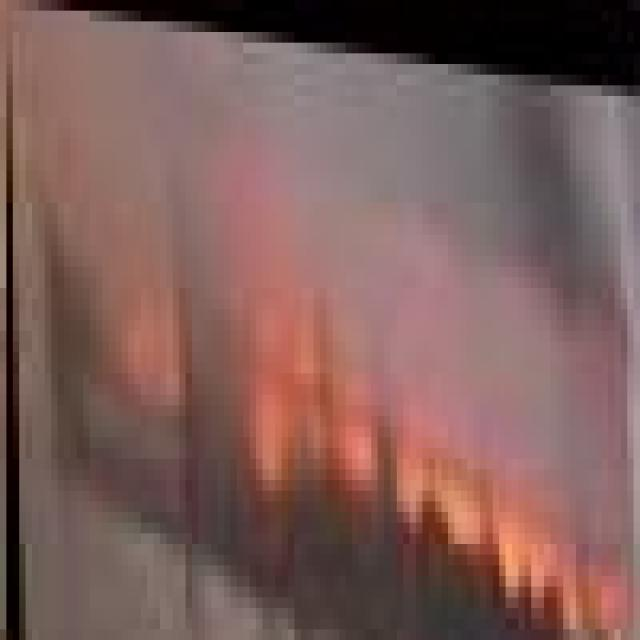fire: (6, 0, 640, 640)
